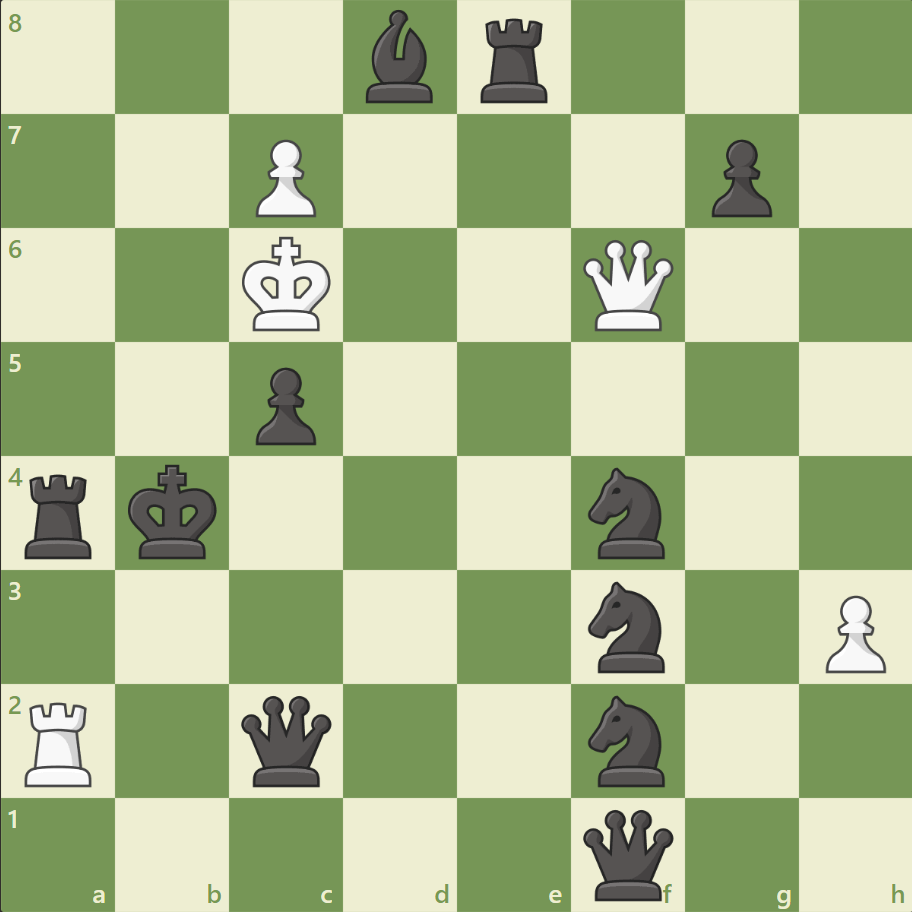K: (238, 231, 338, 339)
P: (247, 132, 322, 223), (815, 586, 889, 677)
Q: (578, 236, 677, 335)
R: (19, 693, 102, 790)
b: (358, 6, 442, 109)
k: (124, 458, 224, 566)
n: (579, 461, 676, 564), (579, 688, 676, 791), (579, 575, 676, 677)
p: (701, 132, 776, 223), (247, 359, 322, 450)
q: (237, 690, 336, 789), (578, 804, 677, 903)
r: (473, 12, 556, 109), (19, 466, 102, 563)
